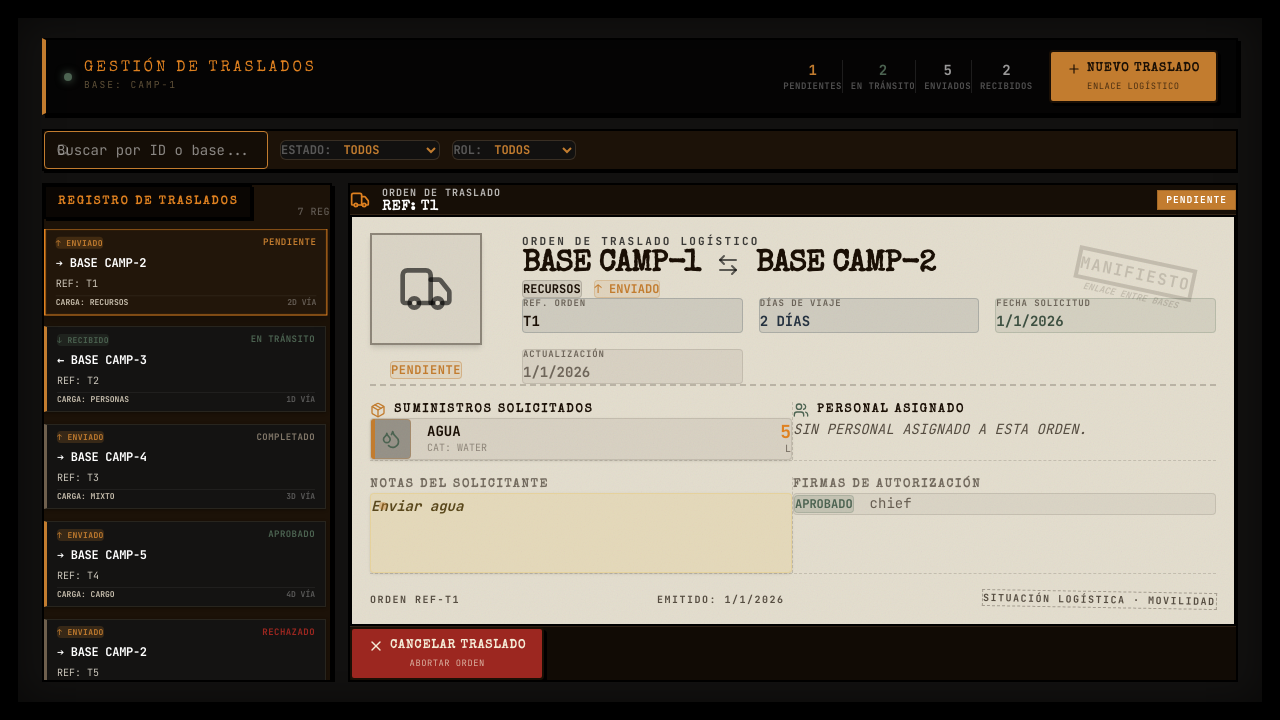
TravelTransfers › shows fallback errors when transfer creation fails without API message
Click the text "Nuevo traslado" at (1133,69), box top-left (1067, 60), bottom-right (1200, 78)
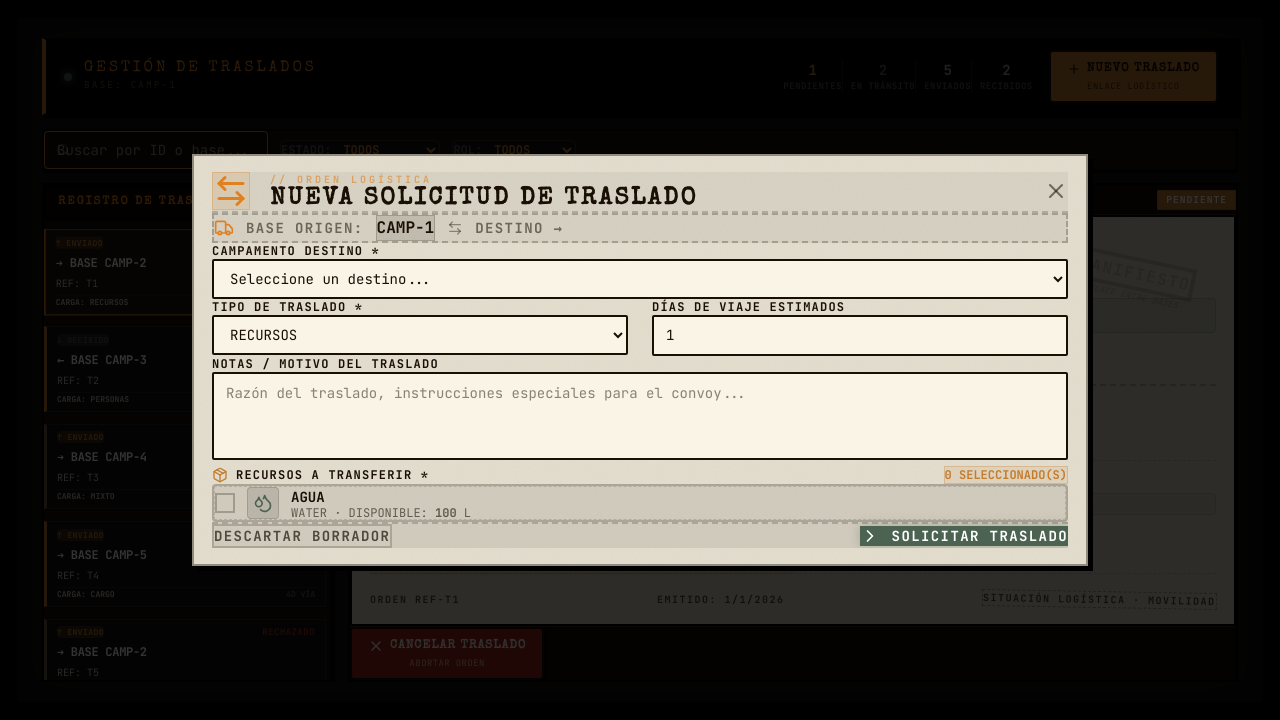
expect the heading "Nueva Solicitud de Traslado" is shown: met, box top-left (270, 187), bottom-right (698, 211)
Select "Bravo Camp" in the dropdown labelled "Campamento Destino *" at (640,279), box top-left (212, 259), bottom-right (1068, 299)
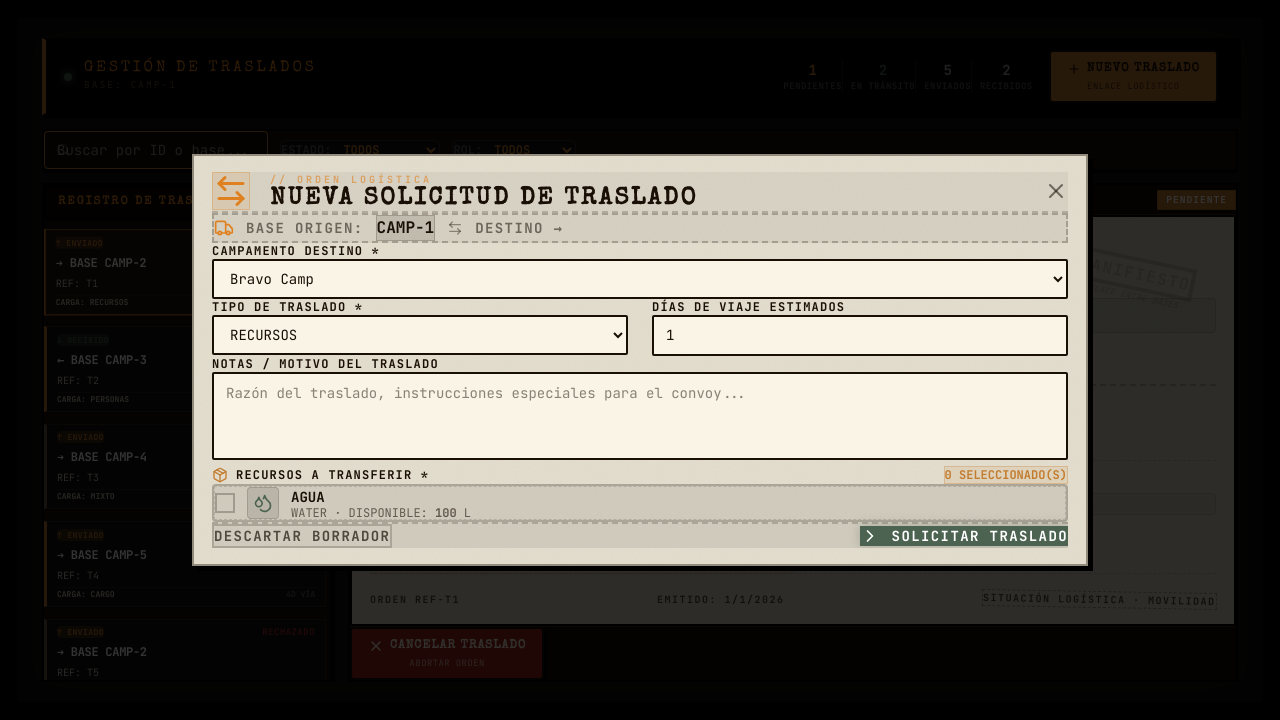
Click the text "Agua" at (308,497), box top-left (291, 488), bottom-right (325, 506)
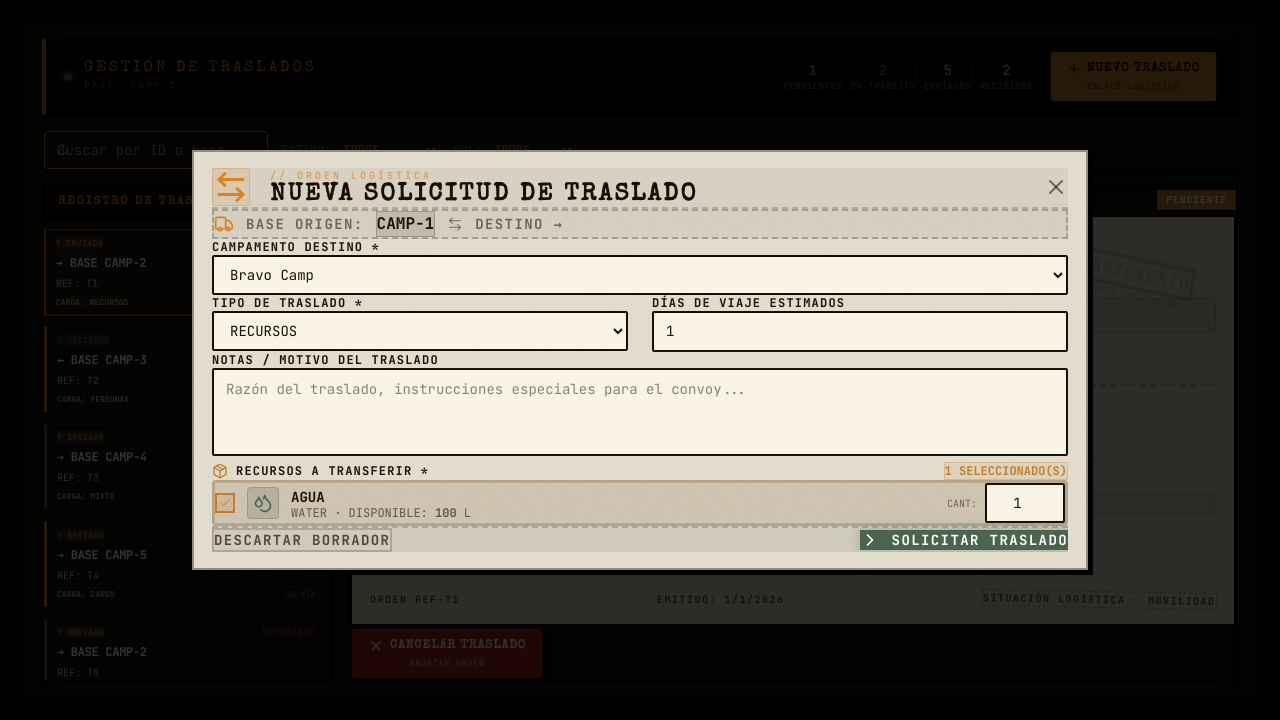
Click the button "Solicitar Traslado" at (964,540), box top-left (860, 530), bottom-right (1068, 550)
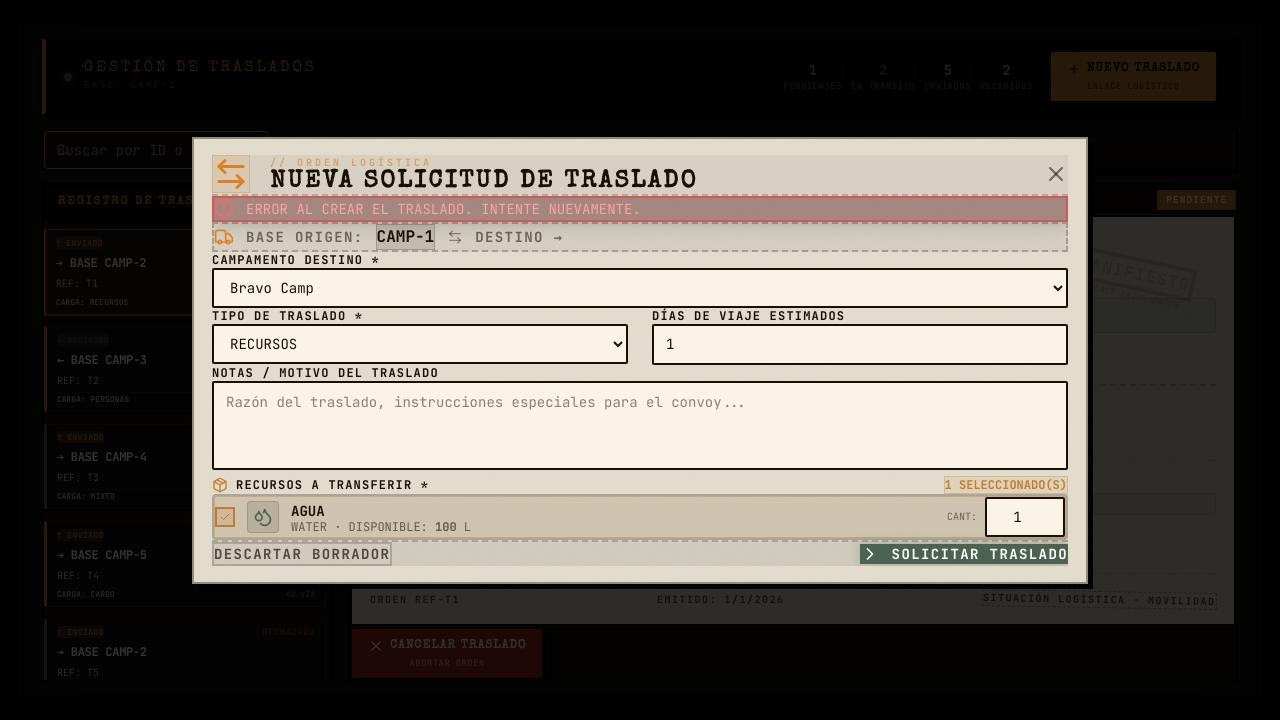
expect the text "Error al crear el traslado. Intente nuevamente." is shown: met, box top-left (246, 198), bottom-right (641, 220)
